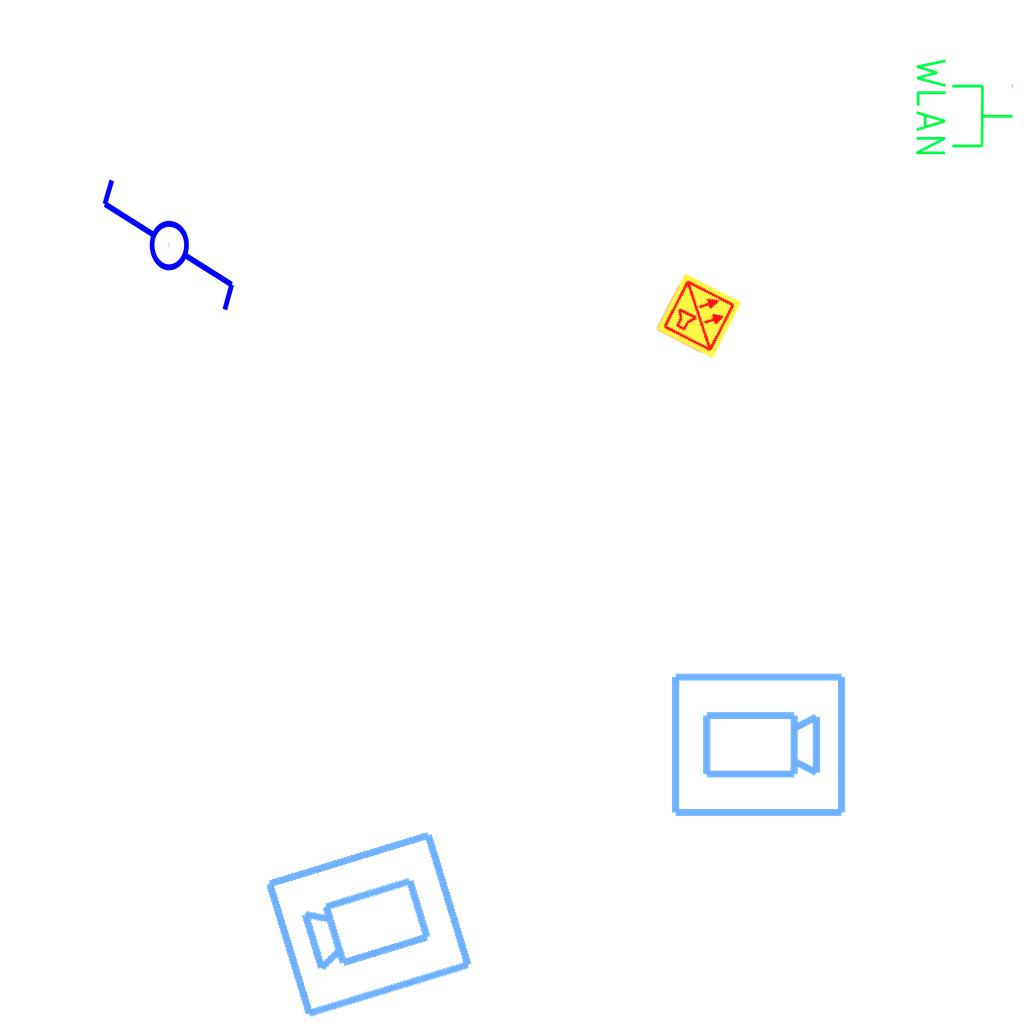KFO_Kamera_mit_Festobjektiv: (259, 822, 479, 1024), (667, 669, 849, 823)
OKW_Multisensormelder_(Kombination_optischer_Rauch-Kahlenmonoxid_Waerme-Melder): (654, 271, 744, 361)
WLAN: (912, 54, 1016, 159)
Wechselschalter: (95, 175, 239, 332)
